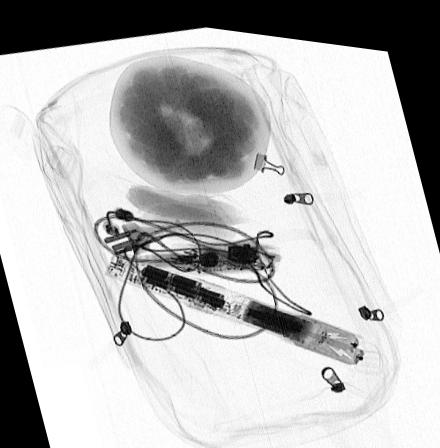Baton: (103, 246, 364, 355)
